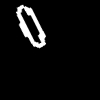chain: (16, 5, 45, 47)
